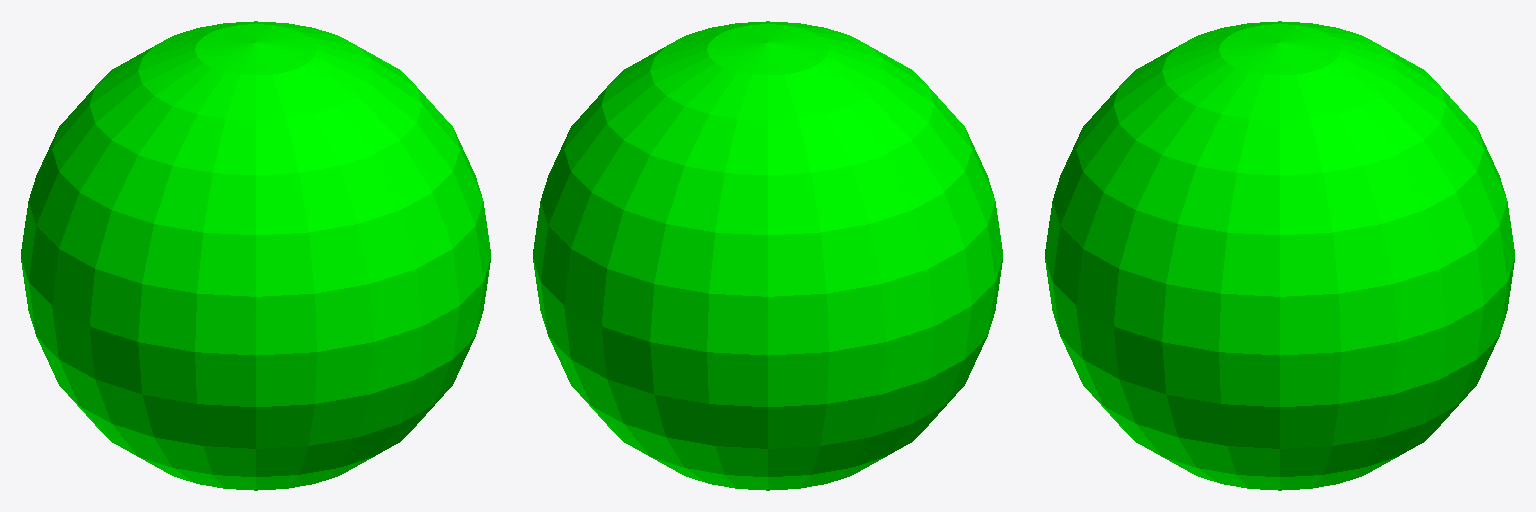
URDF robot description (object):
<?xml version="1.0"?>
<robot name="object">
  <link name="base_link">
    <inertial>
      <origin xyz="0 0 0" /> 
      <mass value="1.0" />
      <inertia  ixx="1.0" ixy="0.0"  ixz="0.0"  iyy="1.0"  iyz="0.0"  izz="1.0" />
    </inertial>
    <visual>
      <origin xyz="0 0 0"/>
      <geometry>
        <mesh filename="package://animals_description/meshes/sphere.dae"/>
      </geometry>
      <material name="green">
            <color rgba="0 1 0 1"/>
      </material>
    </visual>
    <collision>
      <origin xyz="0 0 0"/>
      <geometry>
        <mesh filename="package://animals_description/meshes/sphere.stl"/>
      </geometry>
    </collision>
  </link>
</robot>

--- Facts derived from the render (not from the file) ---
The picture shows the robot from 3 angles, left to right: view 1: azimuth 30°, elevation 25°; view 2: azimuth 150°, elevation 25°; view 3: azimuth 270°, elevation 25°; orthographic projection.
Model object with 1 links and 0 joints (none), rooted at base_link, posed every joint at zero.
Links seen in each view (by area): view 1: base_link; view 2: base_link; view 3: base_link.
Link boxes in pixels (x1,y1,x2,y2): base_link: (21, 21, 490, 490); base_link: (533, 21, 1002, 490); base_link: (1045, 21, 1514, 490).
Bounding box of the posed robot: 0.04 × 0.04 × 0.04 m (x, y, z).
Meshes: 1 distinct files referenced, 1 mesh visuals loaded (1 Collada DAE).